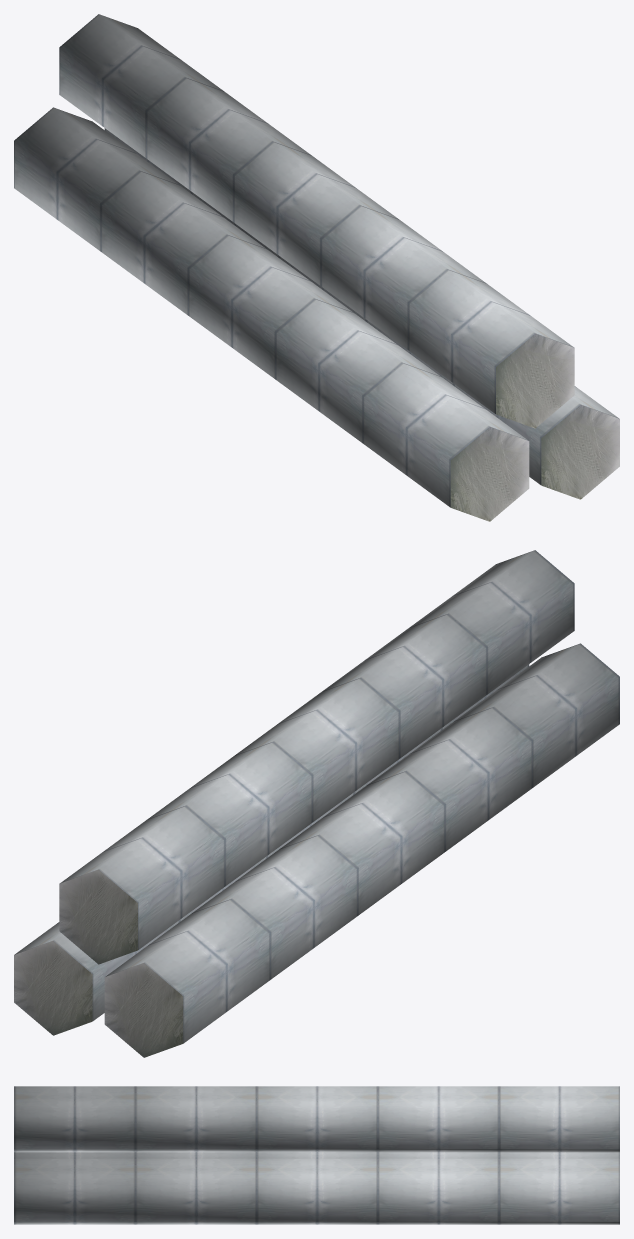
The model's file is hay-bale-plastic-3x10-cbj_LOD02.gltf.
3 renders of one model, top to bottom at view 1: azimuth 30°, elevation 25°; view 2: azimuth 150°, elevation 25°; view 3: azimuth 270°, elevation 25°, orthographic. The views are drawn at different scales.
Visible parts, largest first — view 1: Cube.002; view 2: Cube.002; view 3: Cube.002.
Boxes of the visible parts, <box> form: Cube.002: <box>14,14,619,521</box>; Cube.002: <box>14,550,619,1057</box>; Cube.002: <box>14,1086,619,1224</box>.
Size of what is drawn, in the model's own units: 3.36 by 3.36 by 15.
